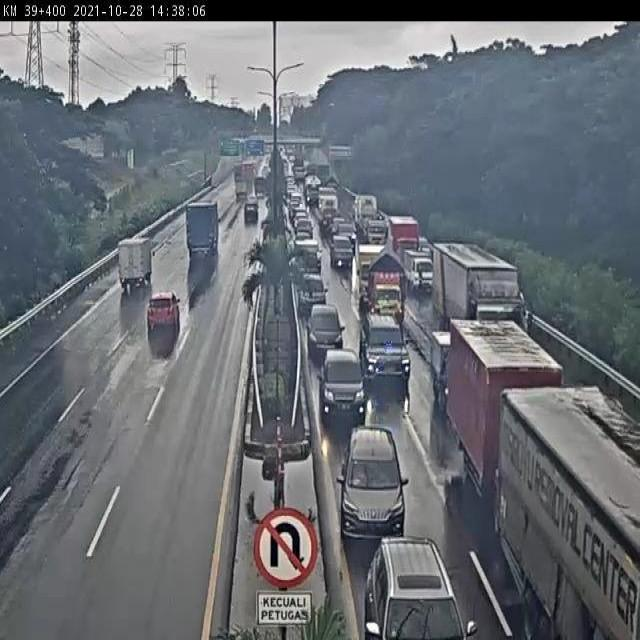big truck: (505, 397, 640, 640), (452, 313, 565, 491), (436, 250, 522, 342), (100, 224, 159, 305), (166, 207, 229, 265), (369, 265, 406, 323)
car: (355, 504, 464, 640), (339, 420, 412, 532), (315, 335, 375, 424), (124, 286, 201, 350), (355, 306, 406, 386), (302, 293, 352, 359), (296, 268, 327, 319), (403, 253, 433, 296), (329, 239, 351, 276)
small truck: (425, 330, 452, 406), (360, 248, 387, 305)
